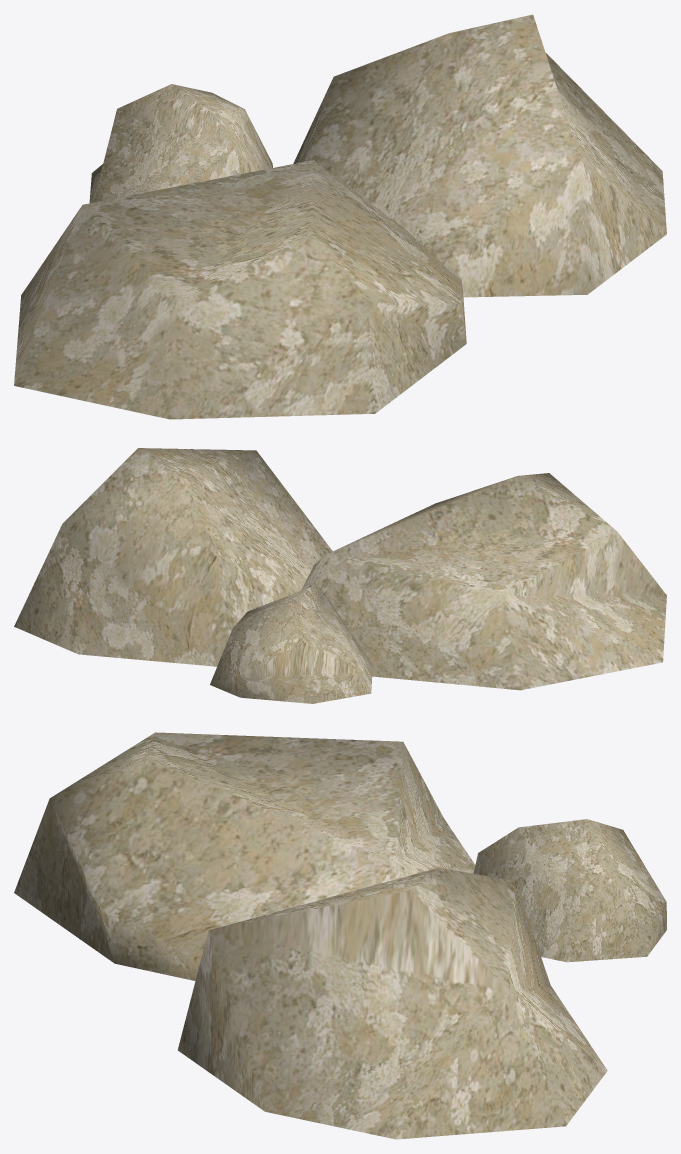
The model's file is rock_small_pile_l1.fbx.
3 renders of one model, top to bottom at view 1: azimuth 30°, elevation 25°; view 2: azimuth 150°, elevation 25°; view 3: azimuth 270°, elevation 25°, orthographic. The views are drawn at different scales.
Parts seen in each view (by area): view 1: mesh_node; view 2: mesh_node; view 3: mesh_node.
Part boxes in pixels (x1,y1,x2,y2): mesh_node: (14,14,666,419); mesh_node: (14,448,666,703); mesh_node: (14,732,666,1139).
Size of the model in its own units: 1.71 by 0.4333 by 1.32.
